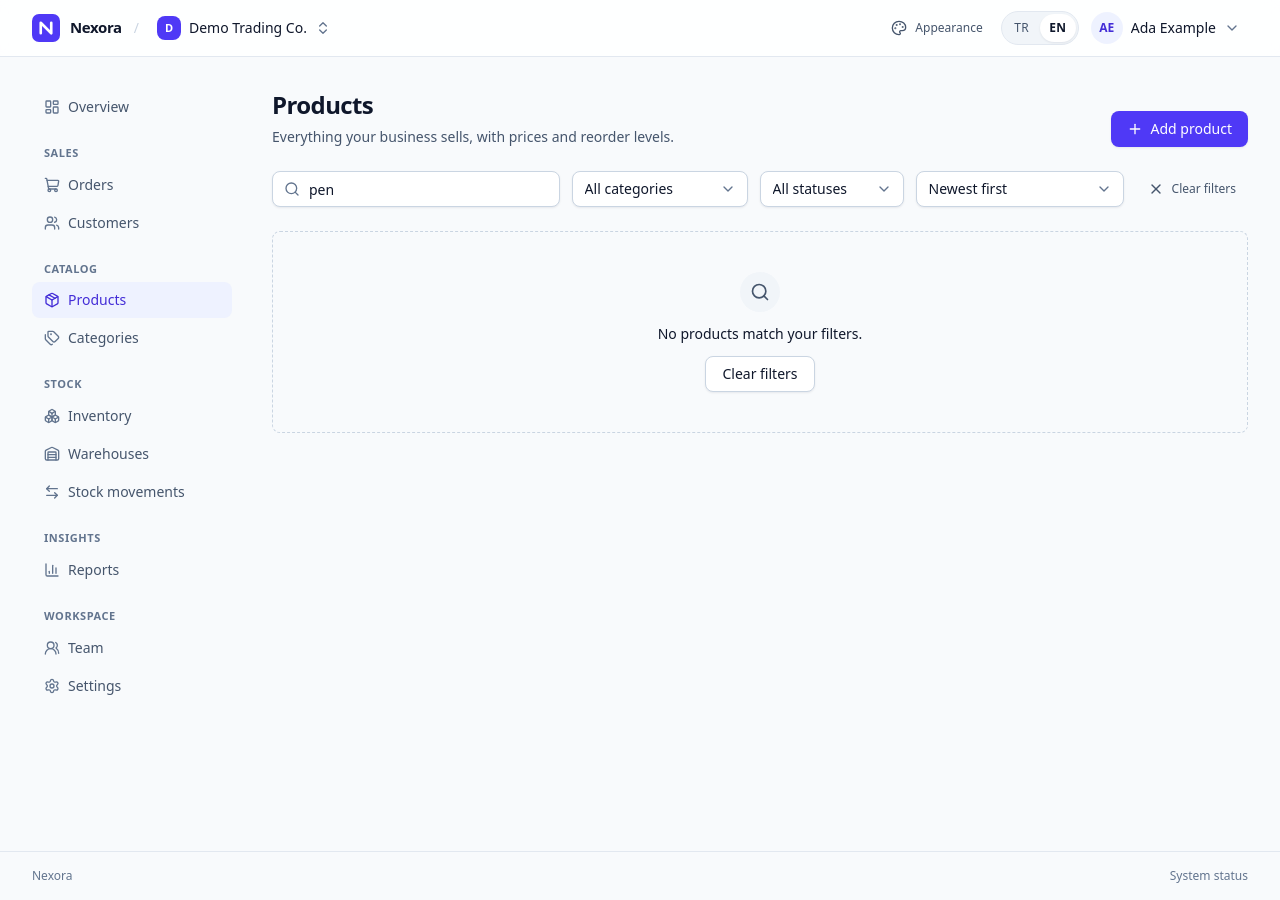
Scenario: interface language › switches a signed-in user in place and saves the choice for the user
Expected: the heading "Products" is shown, [272,88,373,121]
Click the radio button with aria-label "Türkçe".
click(1022, 28)  # box [1004,14,1040,42]
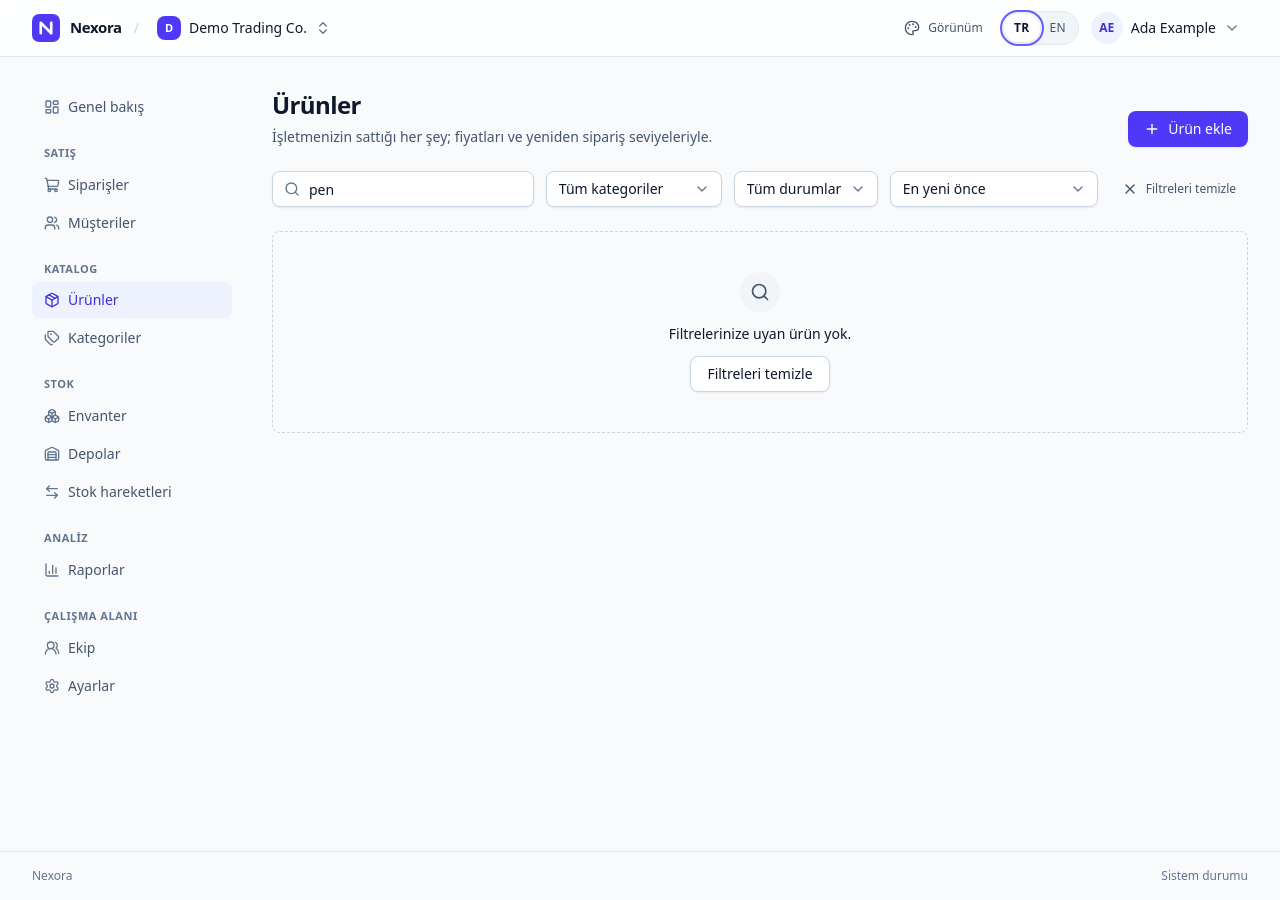
Now the heading "Ürünler" is shown, box [272,88,361,121]
Click the radio button with aria-label "English".
click(1058, 28)  # box [1040,14,1076,42]
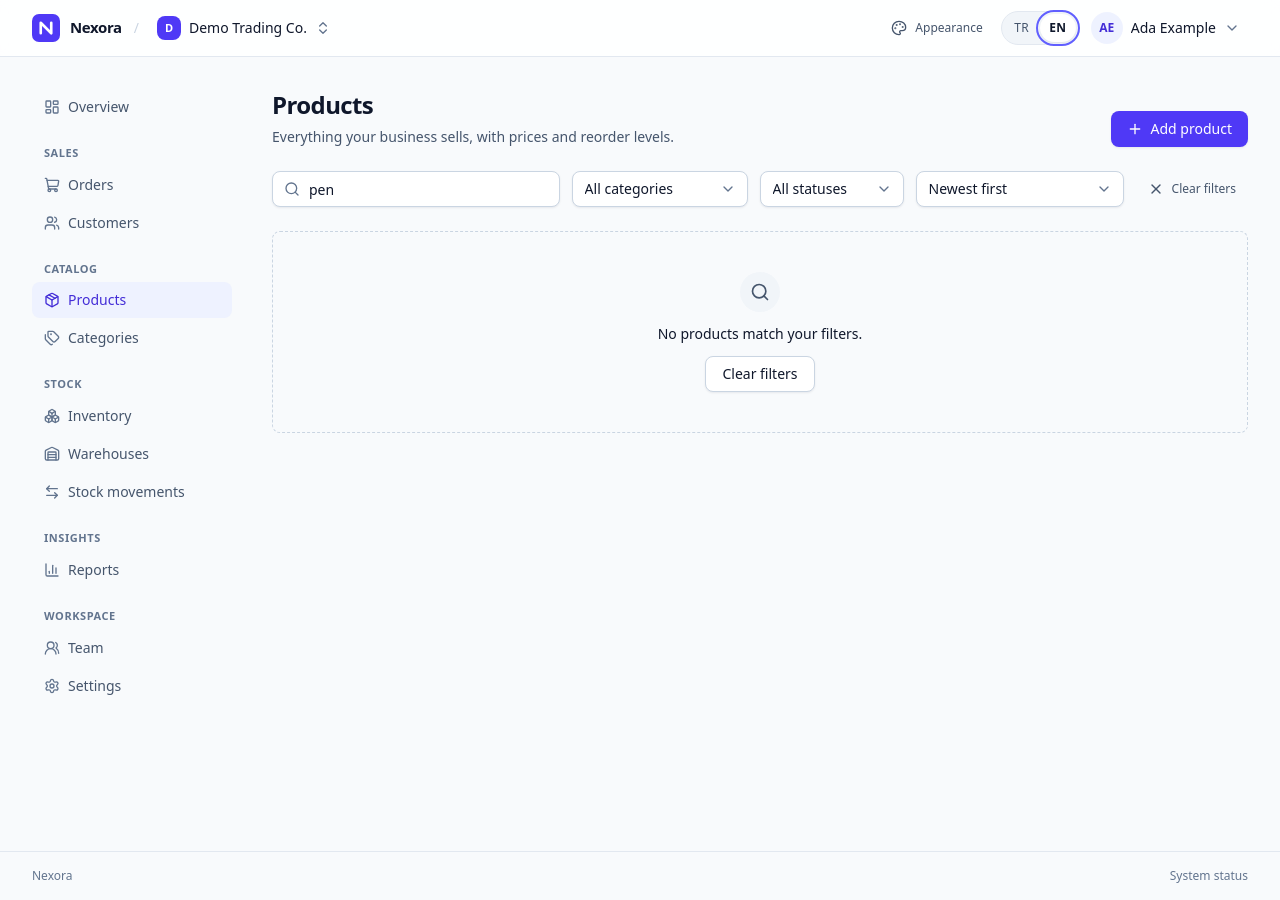
Now the heading "Products" is shown, box [272,88,373,121]
